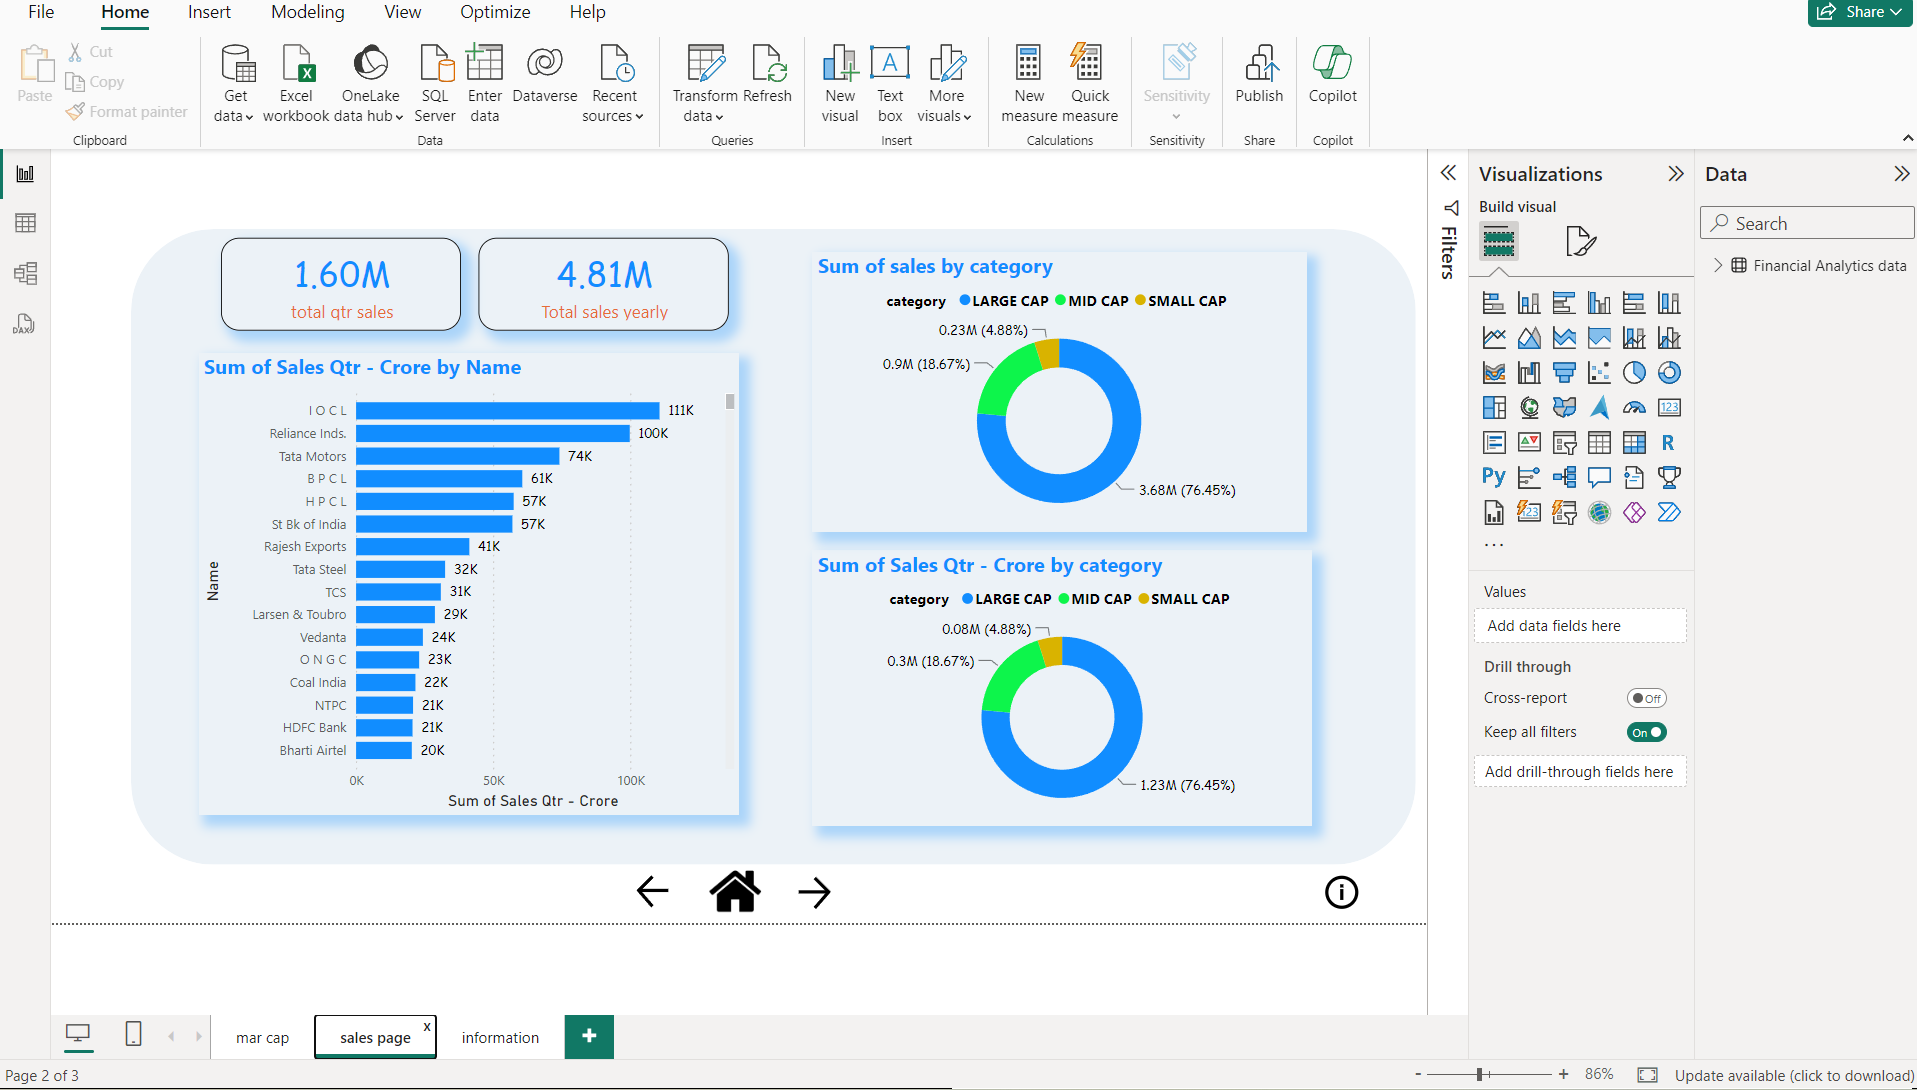

Layout of this report page (visuals, bound fields, positions):
{"tool":"powerbi","page":{"name":"sales page","canvas":[1280,720],"ordinal":1},"visuals":[{"type":"shape","box":[74.4,74.4,1195.2,591.4],"z":0},{"type":"card","fields":{"Values":["Financial Analytics data.sales "]},"box":[397.7,82.6,232.6,86],"z":1000},{"type":"card","fields":{"Values":["Financial Analytics data.Sales Qtr - Crore"]},"box":[158.1,82.6,223.3,86],"z":2000},{"type":"donutChart","fields":{"Category":["Financial Analytics data.category "],"Y":["Financial Analytics data.sales "]},"box":[708.4,95,459.7,260.7],"z":3000},{"type":"pieChart","fields":{"Category":["Financial Analytics data.category "],"Y":["Financial Analytics data.Sales Qtr - Crore"]},"box":[708.7,373.8,465.2,256.6],"z":4000},{"type":"clusteredBarChart","fields":{"Y":["Financial Analytics data.Sales Qtr - Crore"],"Category":["Financial Analytics data.Name"]},"box":[137.2,189.5,503.5,430.2],"z":5000},{"type":"actionButton","box":[689.7,671.8,99.9,40],"z":5001},{"type":"actionButton","box":[1180.7,670.8,98.8,41],"z":5002},{"type":"image","box":[583.5,662.2,106.2,57.8],"z":5003},{"type":"actionButton","box":[540.7,670.9,100,39.5],"z":5004}]}

Visuals, with their boxes on the page's 1280x720 design canvas (x1, y1, x2, y2). These are canvas units, not pixel positions in the 1917x1090 screenshot, which may show the page scaled, cropped or inside an application window:
shape: BBox(74, 74, 1270, 666)
card - Financial Analytics data.sales : BBox(398, 83, 630, 169)
card - Financial Analytics data.Sales Qtr - Crore: BBox(158, 83, 381, 169)
donutChart - Financial Analytics data.category  x Financial Analytics data.sales : BBox(708, 95, 1168, 356)
pieChart - Financial Analytics data.category  x Financial Analytics data.Sales Qtr - Crore: BBox(709, 374, 1174, 630)
clusteredBarChart - Financial Analytics data.Sales Qtr - Crore x Financial Analytics data.Name: BBox(137, 190, 641, 620)
actionButton: BBox(690, 672, 790, 712)
actionButton: BBox(1181, 671, 1280, 712)
image: BBox(584, 662, 690, 720)
actionButton: BBox(541, 671, 641, 710)
